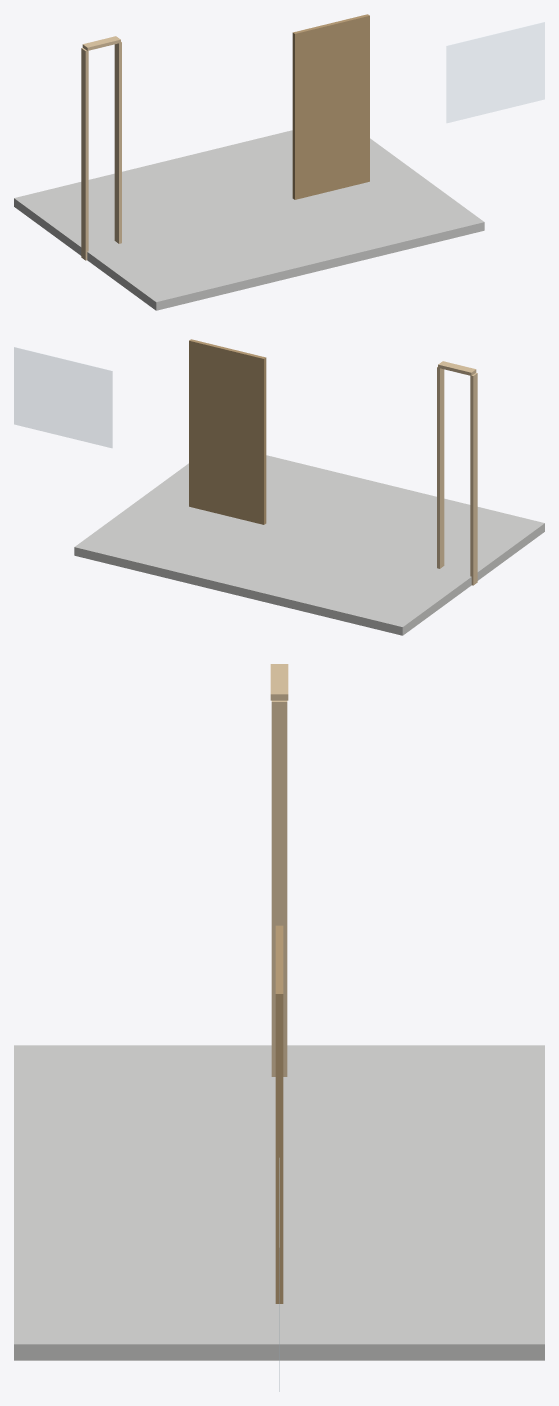
The model's file is units_blueprint.glb.
The picture shows the model from 3 angles, top to bottom: view 1: azimuth 30°, elevation 25°; view 2: azimuth 150°, elevation 25°; view 3: azimuth 270°, elevation 25°; orthographic projection. The views are drawn at different scales.
Parts seen in each view (by area): view 1: floor, door, pane, stud_left, stud_right; view 2: floor, door, pane, stud_left, stud_right; view 3: floor, stud_right, door.
Boxes of the visible parts, x1,y1,x2,y2 form: floor: (14, 130, 484, 310); door: (292, 14, 369, 199); pane: (446, 22, 544, 122); stud_left: (81, 48, 88, 260); stud_right: (114, 42, 121, 243); floor: (74, 455, 544, 635); door: (189, 339, 266, 524); pane: (14, 347, 112, 447); stud_left: (470, 373, 477, 585); stud_right: (437, 367, 444, 568); floor: (14, 1045, 544, 1360); stud_right: (271, 700, 287, 1076); door: (275, 925, 283, 1303).
Bounding box in the file's own units: 5.62 × 2.48 × 3.
